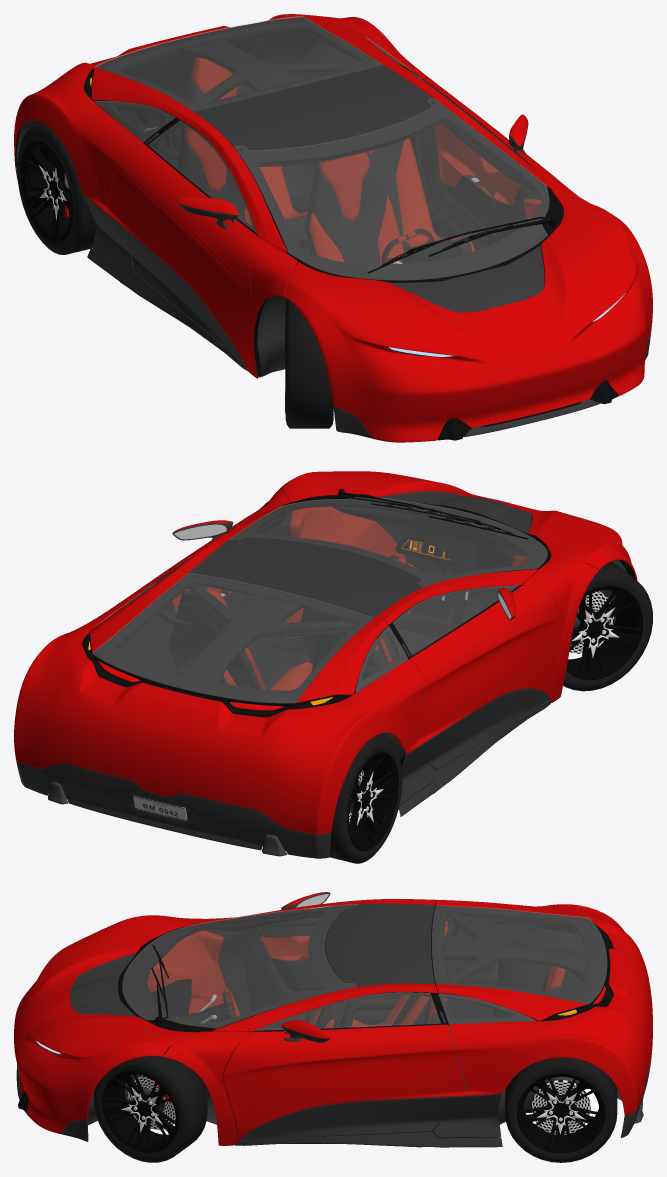
The model's file is car.glb.
The picture shows the model from 3 angles, top to bottom: view 1: azimuth 30°, elevation 25°; view 2: azimuth 150°, elevation 25°; view 3: azimuth 270°, elevation 25°; orthographic projection. The views are drawn at different scales.
Visible parts, largest first — view 1: BodyHood, BodyWindshield, BodyRearwindow, BodyDoorRColor1, BodyRearPanelsColor1, BodyRoofPanel, BodyWindshieldGasket, InteriorSeatsColor1, InteriorSeatsColor2, BodyPillars, InteriorPillar, InteriorRearHatch (+21 smaller); view 2: BodyRearPanelsColor1, BodyRearwindow, BodyWindshield, BodyDoorRColor1, BodyPanelsColor2, BodyRoofPanel, BodyHood, InteriorRearHatch, BodyPillars, InteriorPillar, BodyWindshieldGasket, InteriorDashMid (+22 smaller); view 3: BodyRearPanelsColor1, BodyWindshield, BodyDoorLColor1, BodyHood, BodyRearwindow, BodyRoofPanel, BodyPillars, BodyWindshieldGasket, BodyDoorLColor2, BodyPanelsColor2, WheelFrontL, InteriorRearHatch (+25 smaller).
Part boxes in pixels (left/top/right/bottom): BodyHood: left=283, top=198, right=652, bottom=442; BodyWindshield: left=234, top=98, right=549, bottom=280; BodyRearwindow: left=95, top=16, right=382, bottom=110; BodyDoorRColor1: left=104, top=143, right=257, bottom=362; BodyRearPanelsColor1: left=14, top=14, right=428, bottom=210; BodyRoofPanel: left=193, top=65, right=432, bottom=150; BodyWindshieldGasket: left=234, top=99, right=563, bottom=282; InteriorSeatsColor1: left=185, top=57, right=475, bottom=264; InteriorSeatsColor2: left=180, top=78, right=472, bottom=264; BodyPillars: left=176, top=61, right=598, bottom=378; InteriorPillar: left=158, top=37, right=434, bottom=168; InteriorRearHatch: left=93, top=17, right=383, bottom=117; BodyRearPanelsColor1: left=14, top=569, right=425, bottom=834; BodyRearwindow: left=92, top=573, right=373, bottom=703; BodyWindshield: left=229, top=497, right=547, bottom=587; BodyDoorRColor1: left=409, top=585, right=562, bottom=742; BodyPanelsColor2: left=16, top=700, right=550, bottom=858; BodyRoofPanel: left=189, top=537, right=422, bottom=617; BodyHood: left=279, top=471, right=637, bottom=580; InteriorRearHatch: left=93, top=573, right=386, bottom=707; BodyPillars: left=175, top=489, right=599, bottom=702; InteriorPillar: left=174, top=574, right=417, bottom=682; BodyWindshieldGasket: left=230, top=497, right=550, bottom=587; InteriorDashMid: left=331, top=503, right=528, bottom=622; BodyRearPanelsColor1: left=436, top=899, right=652, bottom=1115; BodyWindshield: left=122, top=904, right=357, bottom=1028; BodyDoorLColor1: left=222, top=1024, right=467, bottom=1139; BodyHood: left=14, top=915, right=196, bottom=1133; BodyRearwindow: left=432, top=905, right=606, bottom=1003; BodyRoofPanel: left=326, top=903, right=434, bottom=986; BodyPillars: left=163, top=899, right=437, bottom=1145; BodyWindshieldGasket: left=118, top=905, right=357, bottom=1032; BodyDoorLColor2: left=240, top=1096, right=467, bottom=1140; BodyPanelsColor2: left=16, top=1050, right=652, bottom=1147; WheelFrontL: left=93, top=1054, right=207, bottom=1162; InteriorRearHatch: left=431, top=905, right=606, bottom=1020.
Size of the model in its own units: 2.54 by 1.15 by 4.36.
Materials: 23 (3 with a texture image).
